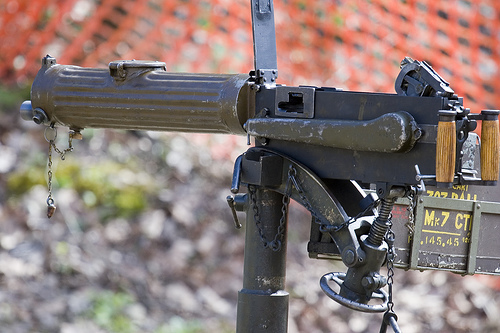rifle: (24, 31, 490, 317)
